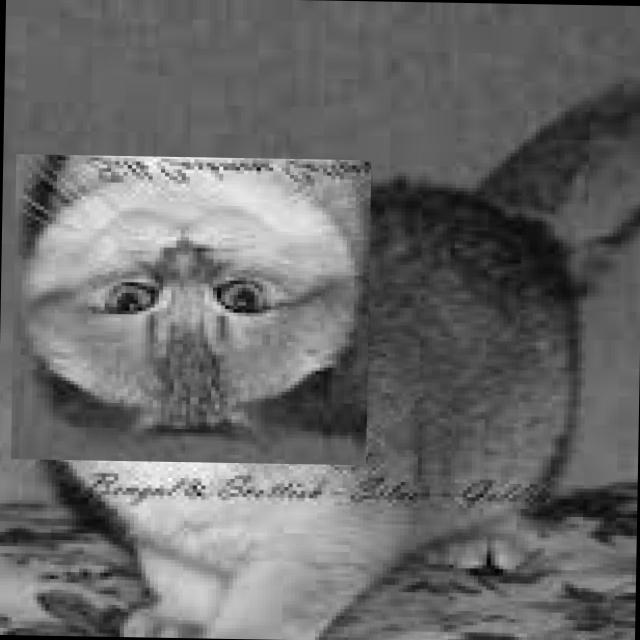scootish: (11, 153, 370, 464)
